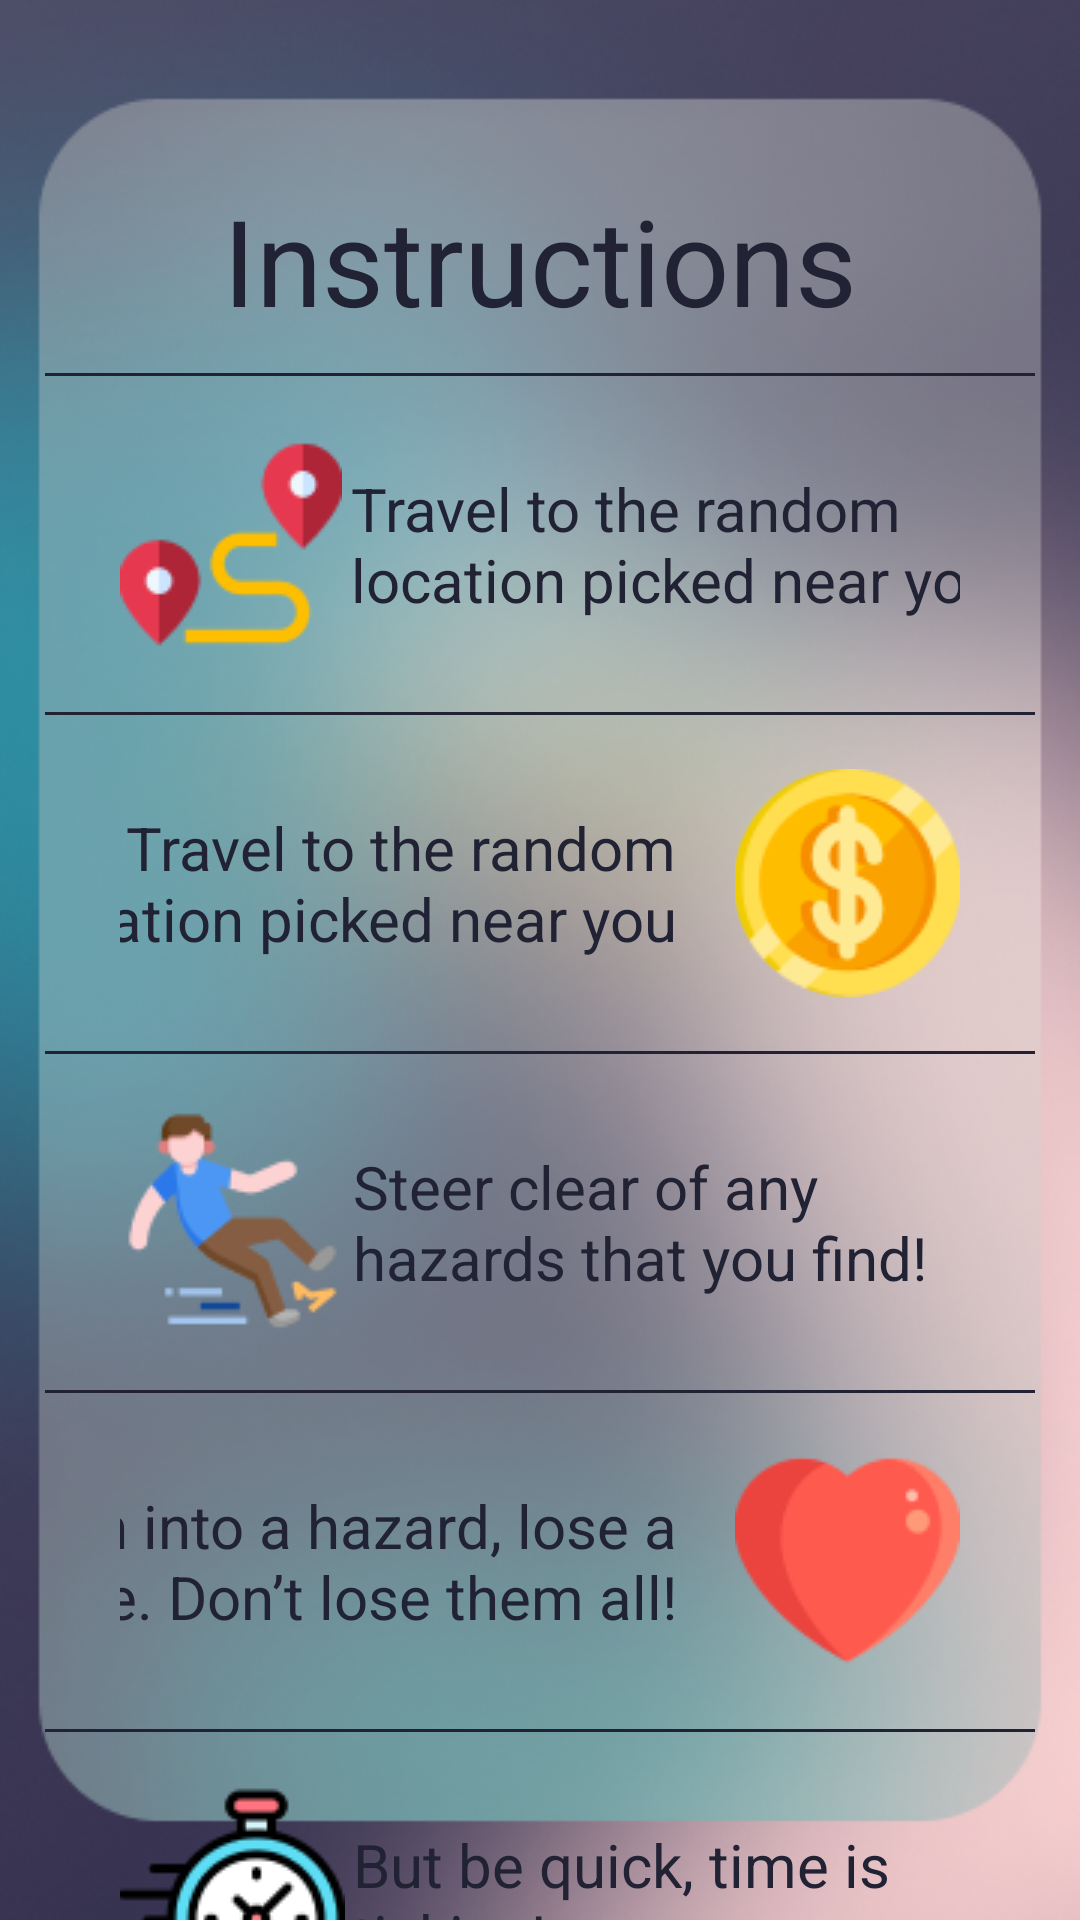

Icon click points for this 1080 × 1920 phone screenshot, format [x,y]:
coin icon: [847,883]
distance icon: [231,544]
heart icon: [847,1561]
